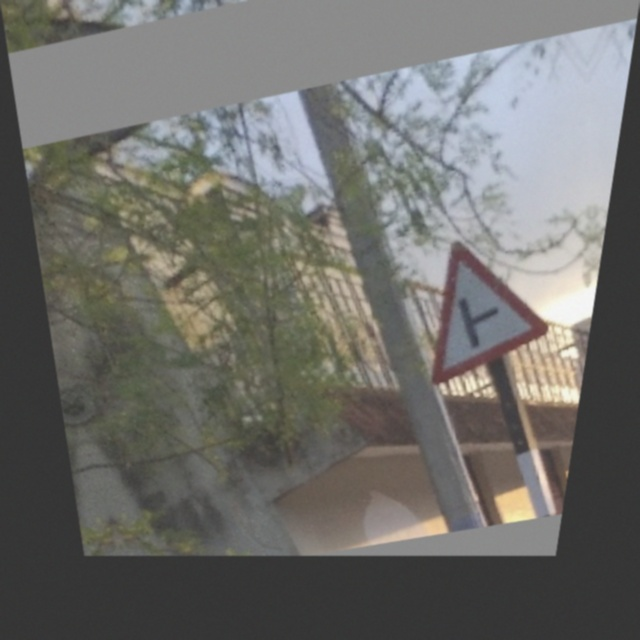Side_Road_Right: (402, 215, 578, 388)
